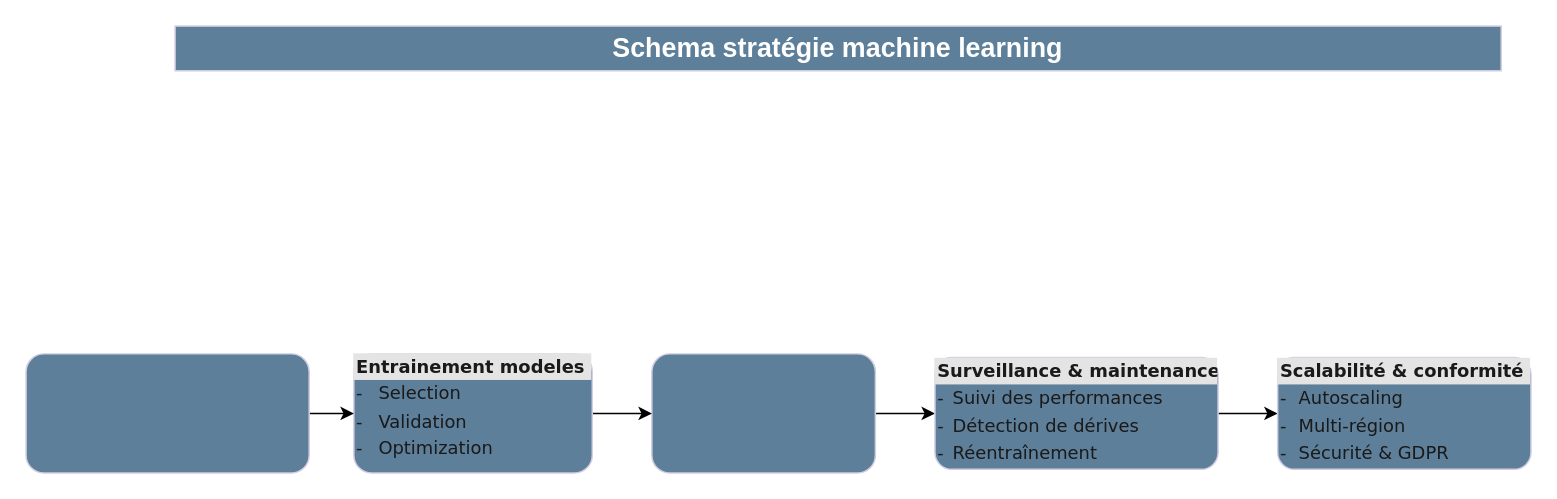
The diagram is 1557 pixels wide and 499 high, and some of its shapes have lost their labels. The centre of each missing label's shape, as x and y in pixels:
"Deploiement modeles - Conteneurisation - Microservices API - Scalabilité" goes at [762,412].
"Extrations caracteristiques - Collecte - Transformation - Stockage" goes at [167,412].
